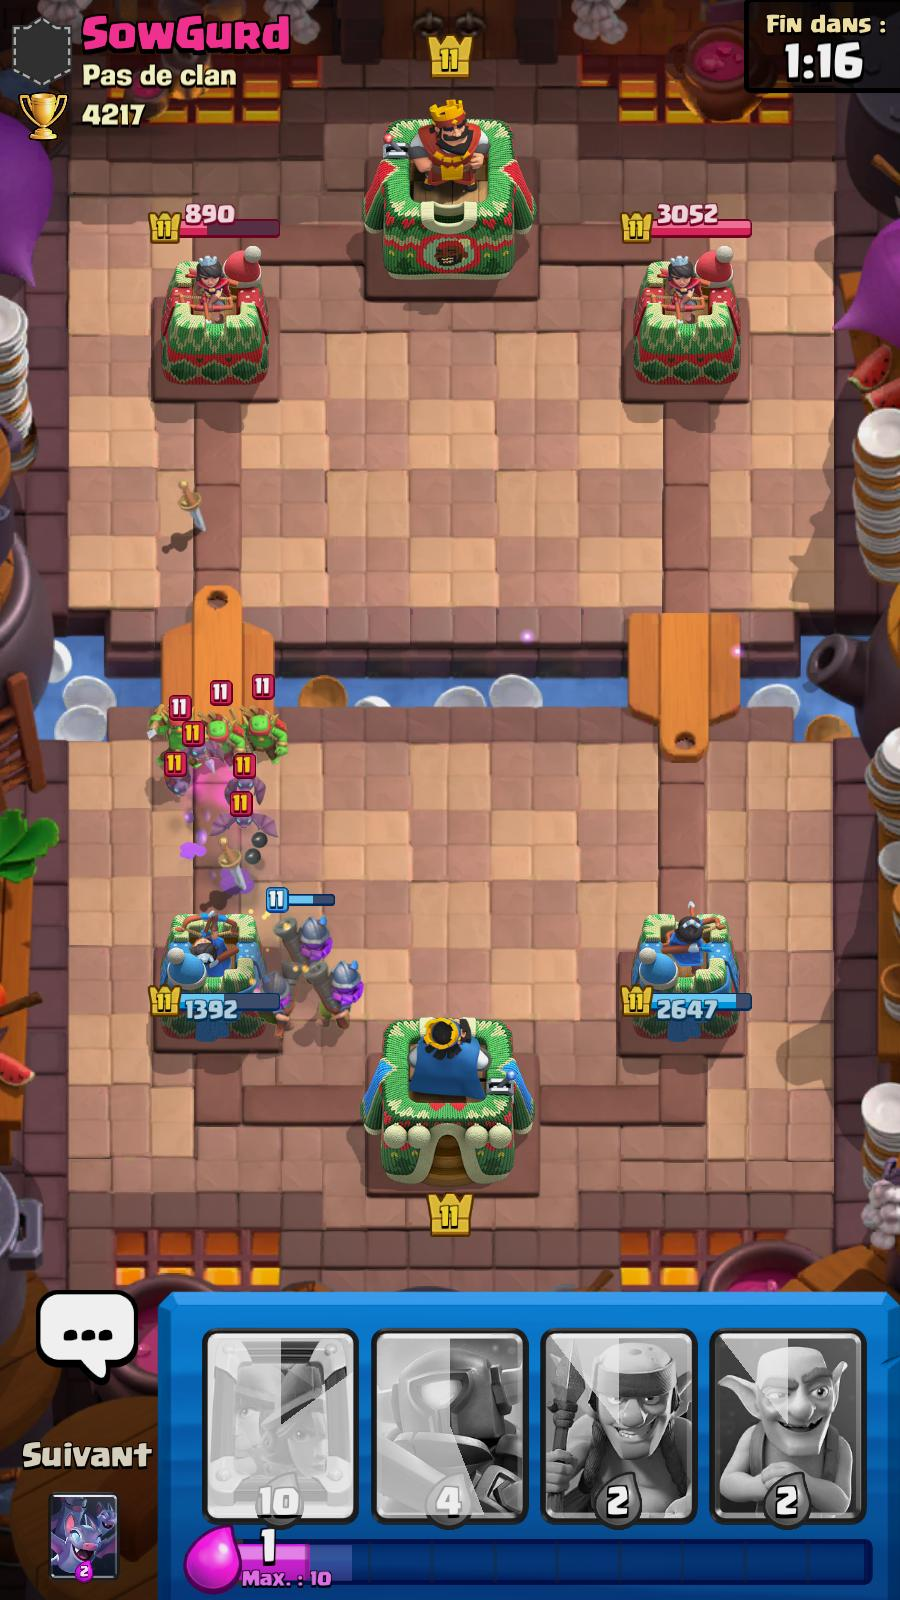bat: (204, 793, 281, 840), (222, 758, 270, 802), (162, 753, 189, 799), (175, 740, 223, 764)
gobelin_lances: (201, 681, 245, 758), (242, 701, 289, 766), (159, 695, 193, 759)
mousquetaire: (269, 890, 327, 974), (310, 958, 363, 1027), (265, 959, 302, 1034)
